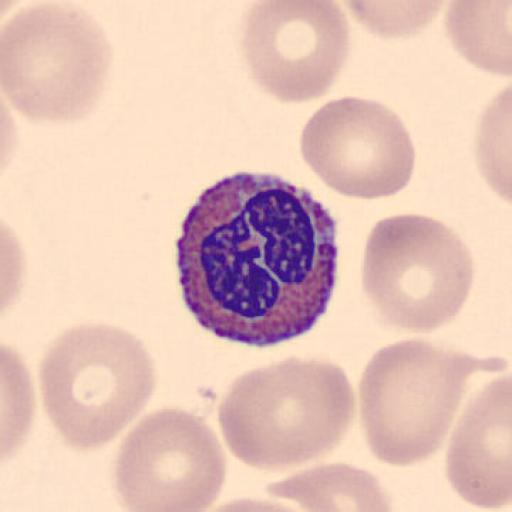RBC: (216, 354, 358, 474), (37, 319, 159, 453), (357, 336, 468, 470), (359, 210, 477, 336), (2, 1, 116, 126), (298, 93, 416, 202), (113, 405, 228, 512), (238, 0, 352, 104), (445, 374, 512, 512), (262, 461, 395, 512), (443, 1, 512, 77), (473, 81, 512, 206), (1, 343, 37, 465), (342, 0, 446, 41), (0, 218, 28, 319), (191, 494, 332, 512), (1, 94, 22, 176), (198, 496, 304, 512)
WBC: (171, 171, 344, 348)
